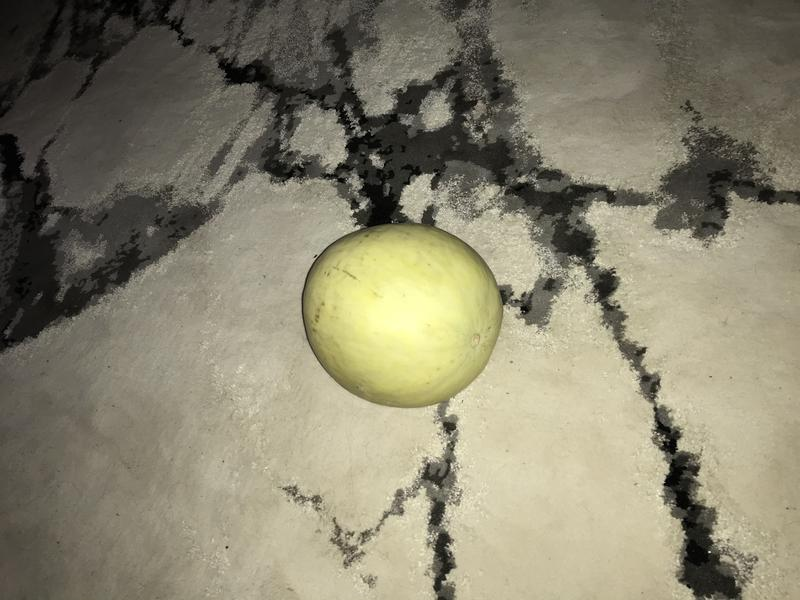honeydew: (294, 220, 514, 415)
